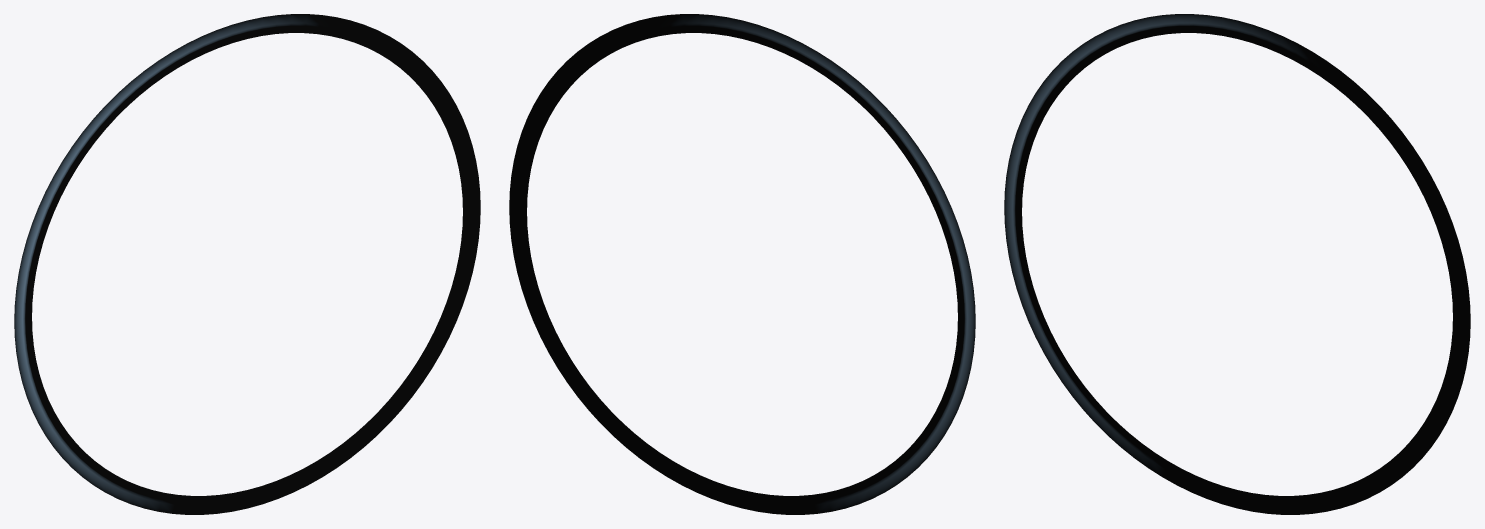
File: dock_shaft.glb
3 renders of one model, left to right at view 1: azimuth 30°, elevation 25°; view 2: azimuth 150°, elevation 25°; view 3: azimuth 330°, elevation 25°, orthographic.
Parts seen in each view (by area): view 1: shaft; view 2: shaft; view 3: shaft.
Boxes of the visible parts, left/top/right/bottom form: shaft: left=14, top=14, right=480, bottom=514; shaft: left=509, top=14, right=975, bottom=514; shaft: left=1004, top=14, right=1470, bottom=514.
Size of the model in its own units: 225 by 225 by 0.
